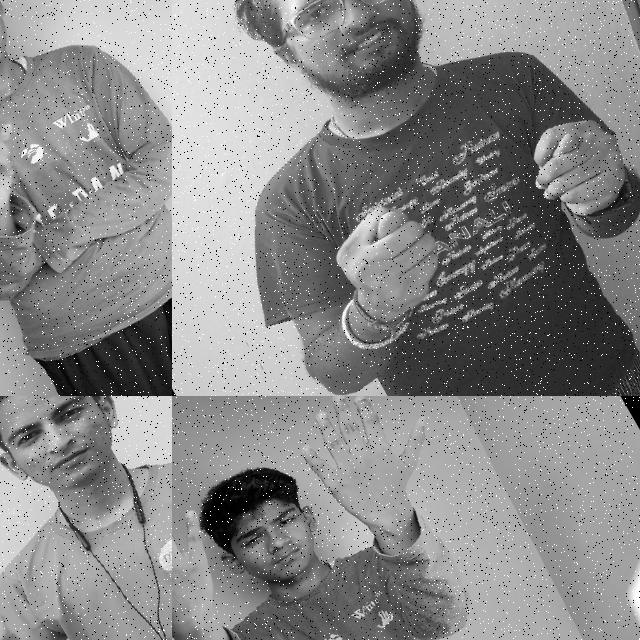Corna: (0, 80, 71, 254)
Dulya: (314, 182, 472, 344), (505, 89, 640, 247)
Moutza: (279, 396, 478, 566), (172, 469, 254, 640)
